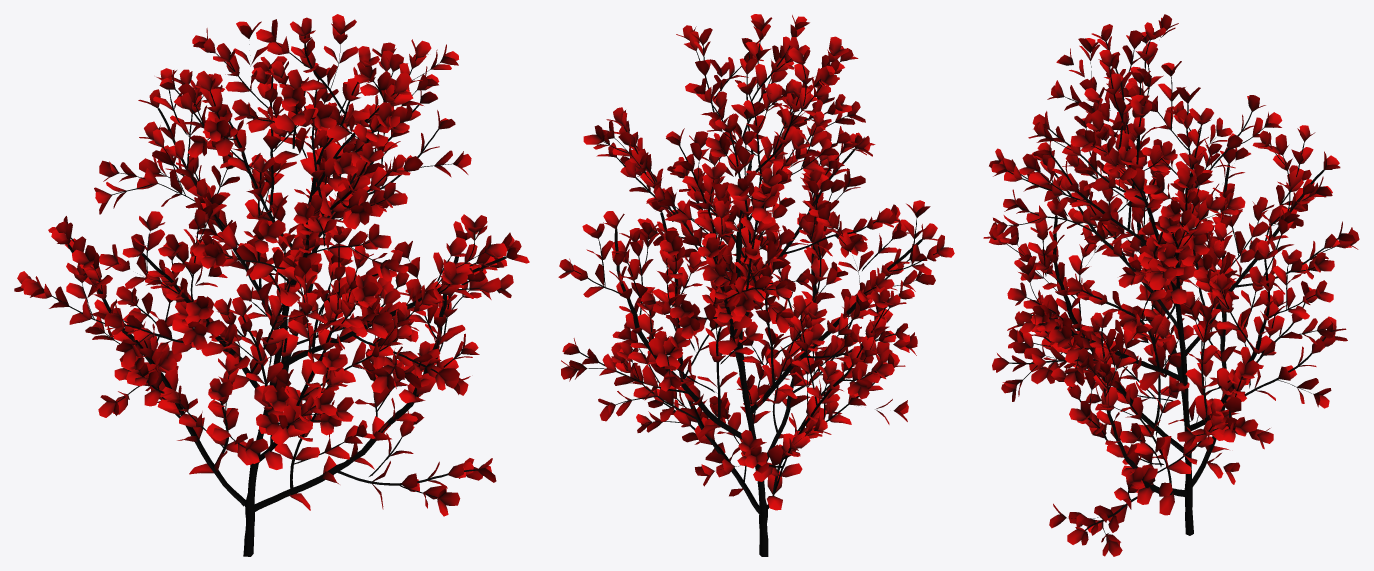
The model's file is Boxwood_wfypfa3ha_Low_wfypfa3ha_VarA_LOD0.fbx.
The picture shows the model from 3 angles, left to right: view 1: azimuth 30°, elevation 25°; view 2: azimuth 150°, elevation 25°; view 3: azimuth 270°, elevation 25°; orthographic projection. The views are drawn at different scales.
Parts seen in each view (by area): view 1: _y5cj_VarA_LOD2; view 2: _y5cj_VarA_LOD2; view 3: _y5cj_VarA_LOD2.
Part boxes in pixels (box(x1,y1,x2,y2)): _y5cj_VarA_LOD2: box(14, 14, 529, 556); _y5cj_VarA_LOD2: box(558, 14, 954, 556); _y5cj_VarA_LOD2: box(983, 14, 1359, 556).
Size of the model in its own units: 48.37 by 68.79 by 45.86.
